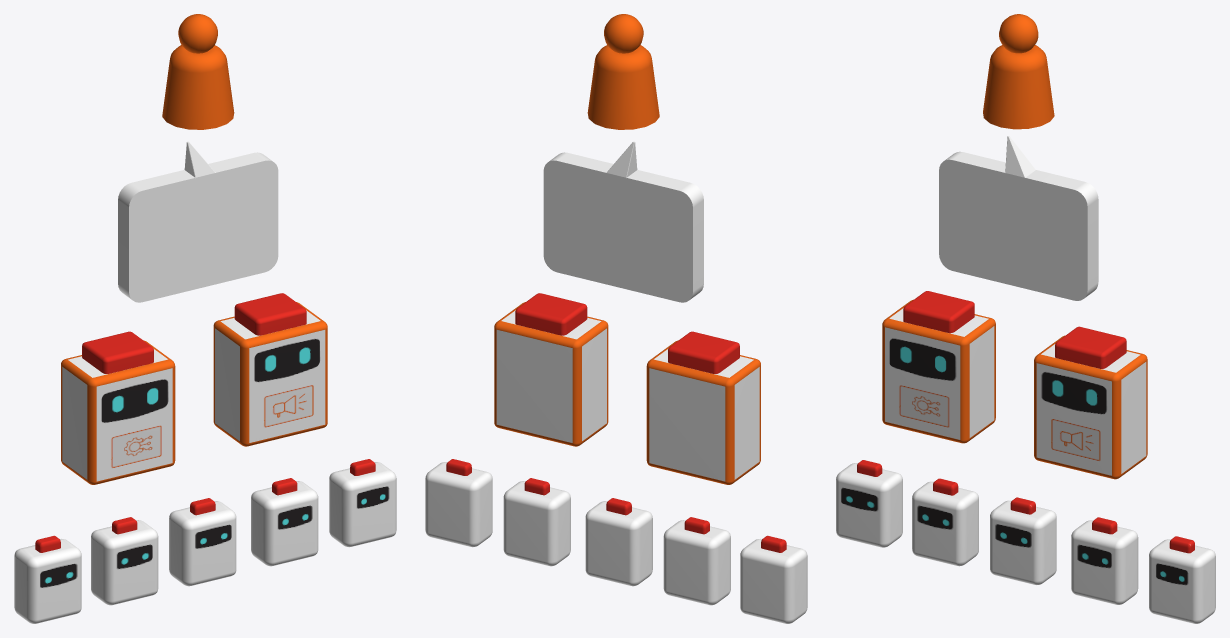
File: Agentic_Architecture_AR1.glb
The picture shows the model from 3 angles, left to right: view 1: azimuth 30°, elevation 25°; view 2: azimuth 150°, elevation 25°; view 3: azimuth 330°, elevation 25°; orthographic projection.
Parts seen in each view (by area): view 1: ChatBubble, Speech_Bot, Interpreter_Bot, Person, TinyBot3, TinyBot5, TinyBot1, TinyBot4, TinyBot2; view 2: ChatBubble, Speech_Bot, Interpreter_Bot, Person, TinyBot3, TinyBot5, TinyBot1, TinyBot4, TinyBot2; view 3: ChatBubble, Speech_Bot, Interpreter_Bot, Person, TinyBot4, TinyBot5, TinyBot1, TinyBot2, TinyBot3.
Part boxes in pixels (left/top/right/bottom): ChatBubble: left=118, top=141, right=278, bottom=302; Speech_Bot: left=213, top=293, right=327, bottom=446; Interpreter_Bot: left=61, top=331, right=175, bottom=484; Person: left=162, top=14, right=234, bottom=129; TinyBot3: left=169, top=498, right=236, bottom=586; TinyBot5: left=329, top=459, right=396, bottom=547; TinyBot1: left=14, top=535, right=81, bottom=623; TinyBot4: left=251, top=478, right=318, bottom=566; TinyBot2: left=91, top=517, right=158, bottom=605; ChatBubble: left=543, top=141, right=703, bottom=302; Speech_Bot: left=494, top=293, right=608, bottom=446; Interpreter_Bot: left=646, top=331, right=760, bottom=484; Person: left=587, top=14, right=659, bottom=129; TinyBot3: left=585, top=498, right=652, bottom=586; TinyBot5: left=425, top=459, right=492, bottom=547; TinyBot1: left=740, top=535, right=807, bottom=623; TinyBot4: left=503, top=478, right=570, bottom=566; TinyBot2: left=663, top=517, right=730, bottom=605; ChatBubble: left=939, top=136, right=1098, bottom=300; Speech_Bot: left=1034, top=326, right=1147, bottom=479; Interpreter_Bot: left=882, top=291, right=995, bottom=443; Person: left=983, top=14, right=1054, bottom=129; TinyBot4: left=1071, top=517, right=1138, bottom=604; TinyBot5: left=1149, top=536, right=1215, bottom=623; TinyBot1: left=836, top=460, right=902, bottom=547; TinyBot2: left=912, top=478, right=978, bottom=566; TinyBot3: left=990, top=497, right=1056, bottom=584.
Bounding box in the file's own units: 0.1169 × 0.1704 × 0.02.
8 materials, 3 textured.
